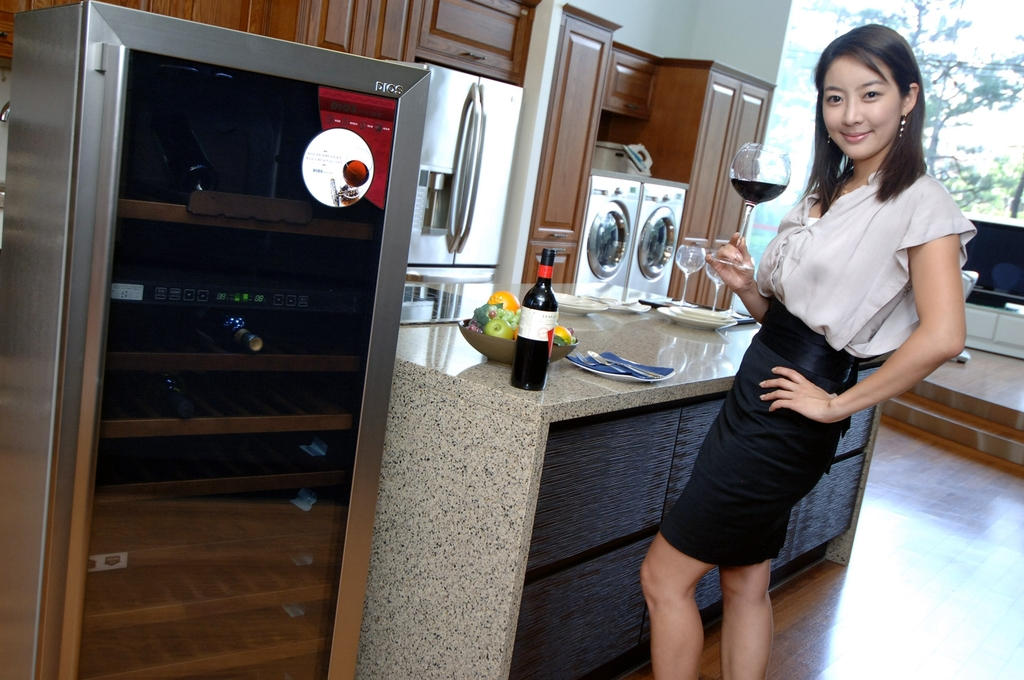cabinet door: (550, 417, 665, 539), (537, 554, 642, 654), (555, 13, 585, 244), (434, 7, 518, 76), (695, 77, 726, 237), (381, 0, 410, 48)
handle: (55, 44, 131, 680), (551, 395, 676, 434), (532, 540, 646, 576), (461, 90, 468, 246), (476, 98, 483, 240)
refrigerator door: (90, 24, 370, 680), (470, 87, 508, 260), (427, 68, 459, 255)
